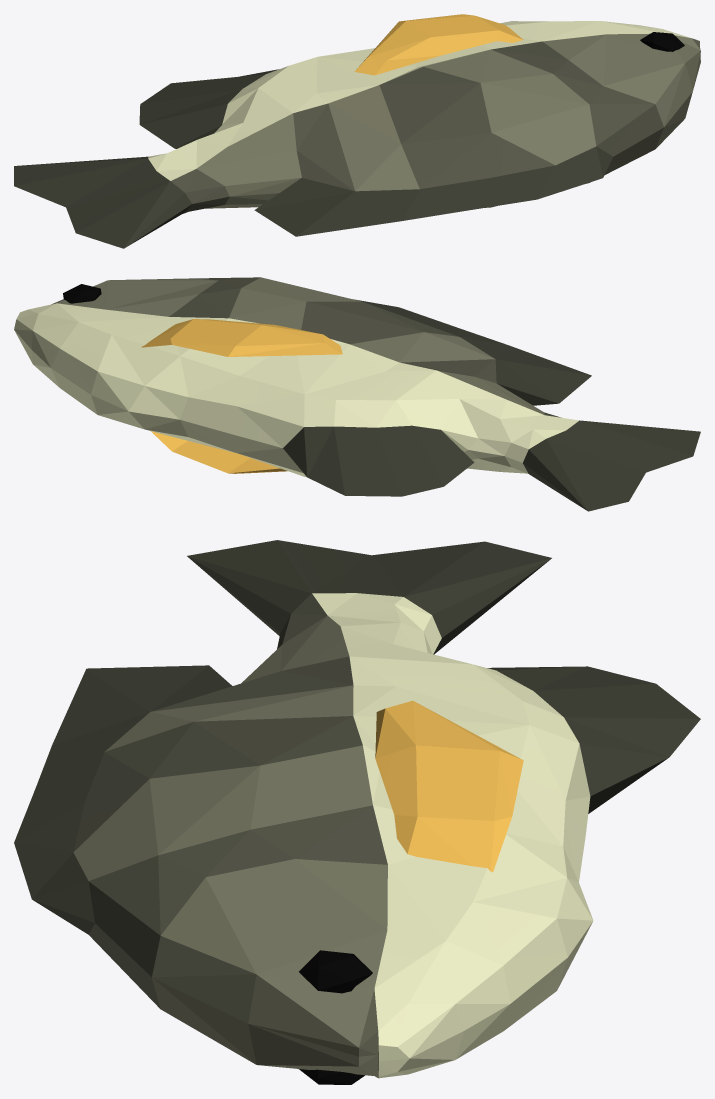
The model's file is Bluegill.glb.
3 views of the same model, one above another, from view 1: azimuth 30°, elevation 25°; view 2: azimuth 150°, elevation 25°; view 3: azimuth 270°, elevation 25° (orthographic). The views are drawn at different scales.
Parts seen in each view (by area): view 1: Bluegill; view 2: Bluegill; view 3: Bluegill.
Boxes of the visible parts, <box> form: Bluegill: <box>14,14,700,248</box>; Bluegill: <box>14,277,700,511</box>; Bluegill: <box>14,540,700,1084</box>.
Bounding box in the file's own units: 0.3878 × 0.0768 × 0.2159.
Materials: 1 (1 with a texture image).
